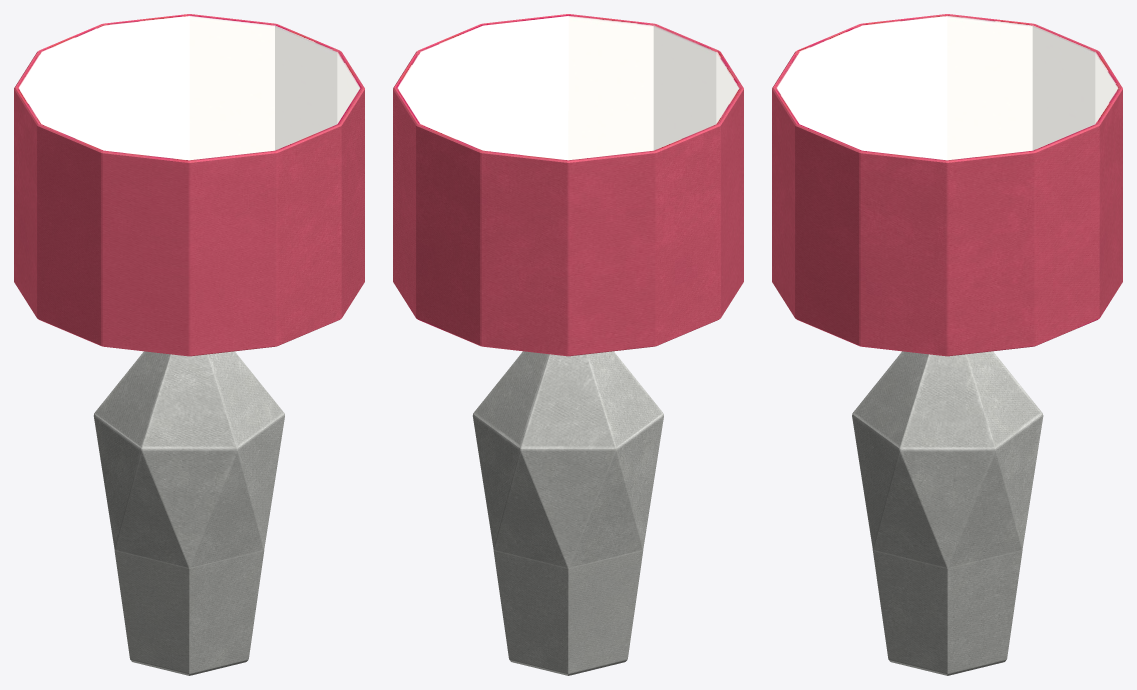
File: deskLamp.glb
The picture shows the model from 3 angles, left to right: view 1: azimuth 30°, elevation 25°; view 2: azimuth 150°, elevation 25°; view 3: azimuth 270°, elevation 25°; orthographic projection.
Parts seen in each view (by area): view 1: deskLamp; view 2: deskLamp; view 3: deskLamp.
Part boxes in pixels (x1,y1,x2,y2): deskLamp: (14,14,364,675); deskLamp: (393,14,743,675); deskLamp: (772,14,1122,675).
Bounding box in the file's own units: 0.3602 × 0.635 × 0.3602.
1 material, 1 textured.
